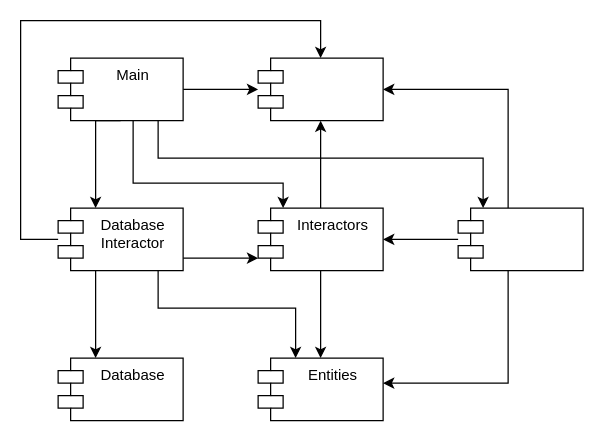
This 604x441 diagram has some shape labels left out. Here are the shapes that lost their labels. From the top down, the centre of each, then its label:
(320,89): Config
(520,239): Request Handlers
